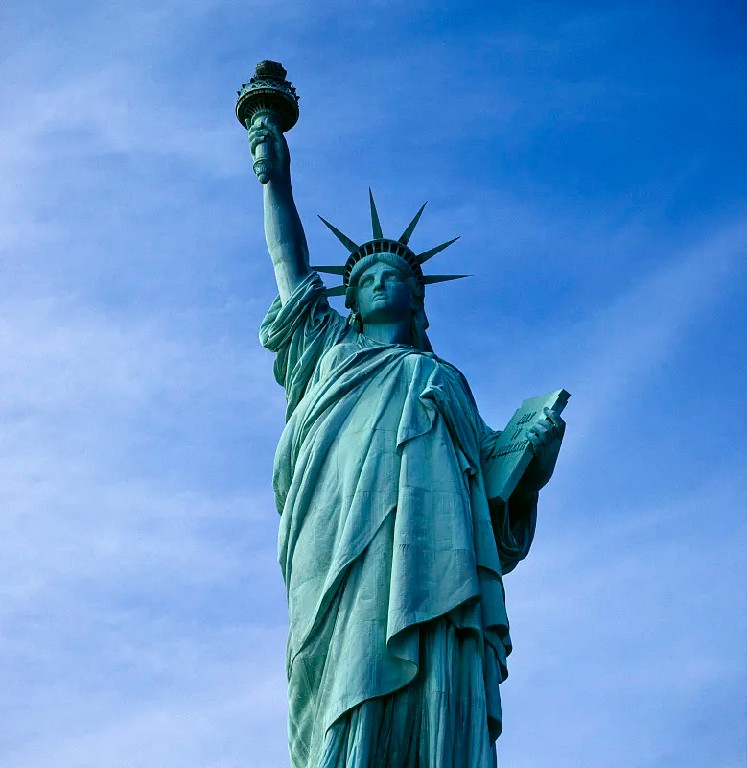SL: (236, 59, 571, 768)
